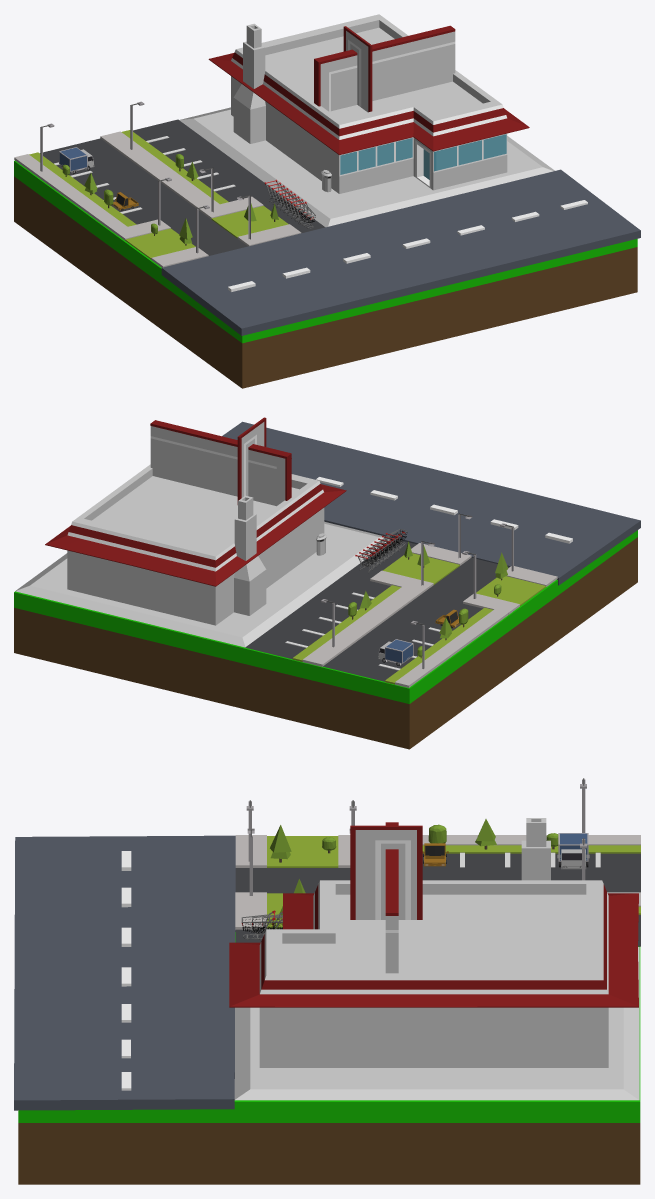
File: EcomSphereHome.glb
The picture shows the model from 3 angles, top to bottom: view 1: azimuth 30°, elevation 25°; view 2: azimuth 150°, elevation 25°; view 3: azimuth 270°, elevation 25°; orthographic projection. The views are drawn at different scales.
Parts seen in each view (by area): view 1: Box001, group336620870, Cube, Cube.003_Cube.010, Plane.002_1; view 2: Box001, Cube, Cube.003_Cube.010, group336620870, Plane.002_1; view 3: Box001, group336620870, Cube, Cube.003_Cube.010, Plane.002_1.
Part boxes in pixels (x1,y1,x2,y2): Box001: (179, 14, 554, 227); group336620870: (161, 169, 640, 335); Cube: (14, 160, 637, 388); Cube.003_Cube.010: (14, 101, 325, 267); Plane.002_1: (264, 179, 315, 228); Box001: (15, 417, 390, 647); Cube: (14, 530, 637, 749); Cube.003_Cube.010: (245, 513, 557, 687); group336620870: (222, 421, 640, 585); Plane.002_1: (355, 529, 407, 572); Box001: (229, 818, 639, 1100); group336620870: (14, 835, 235, 1110); Cube: (18, 932, 640, 1184); Cube.003_Cube.010: (235, 778, 640, 946); Plane.002_1: (241, 910, 282, 939).
Bounding box in the file's own units: 3.69 × 1.7 × 3.68.
Materials: 45 (1 with a texture image).
